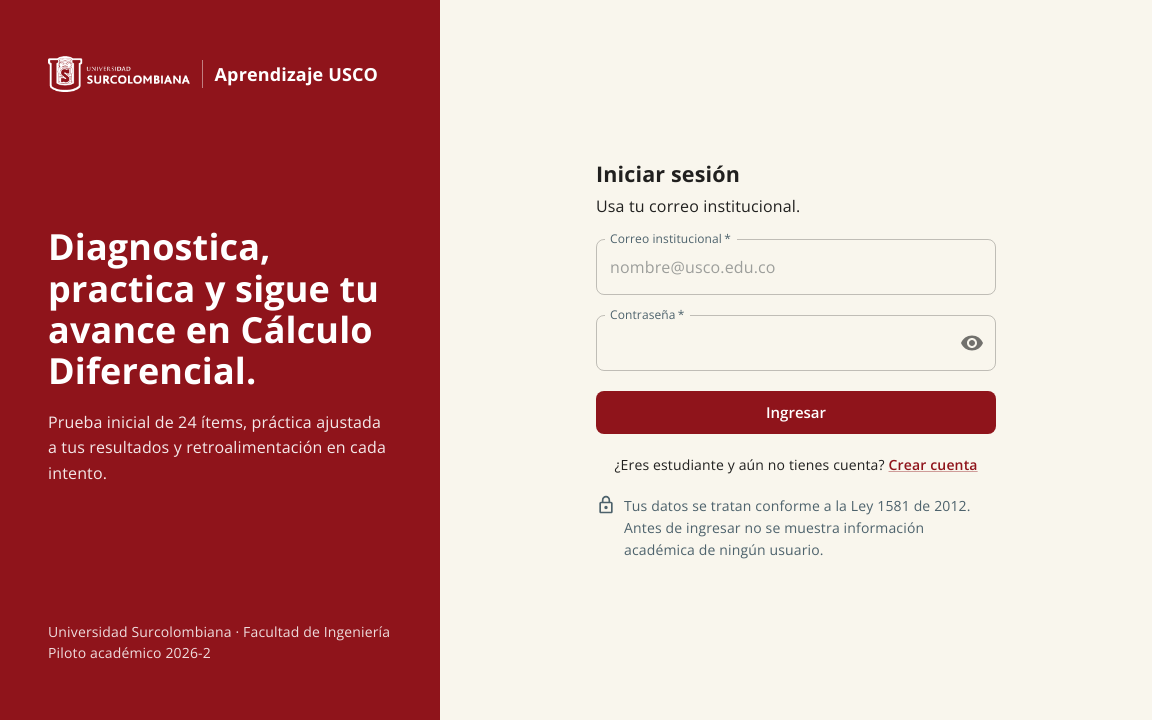
RegistroPage › el login enlaza a la pantalla de registro (hallazgo 1)
Step 1. Click the link "Crear cuenta" → (933, 464), box [888,454,978,474]
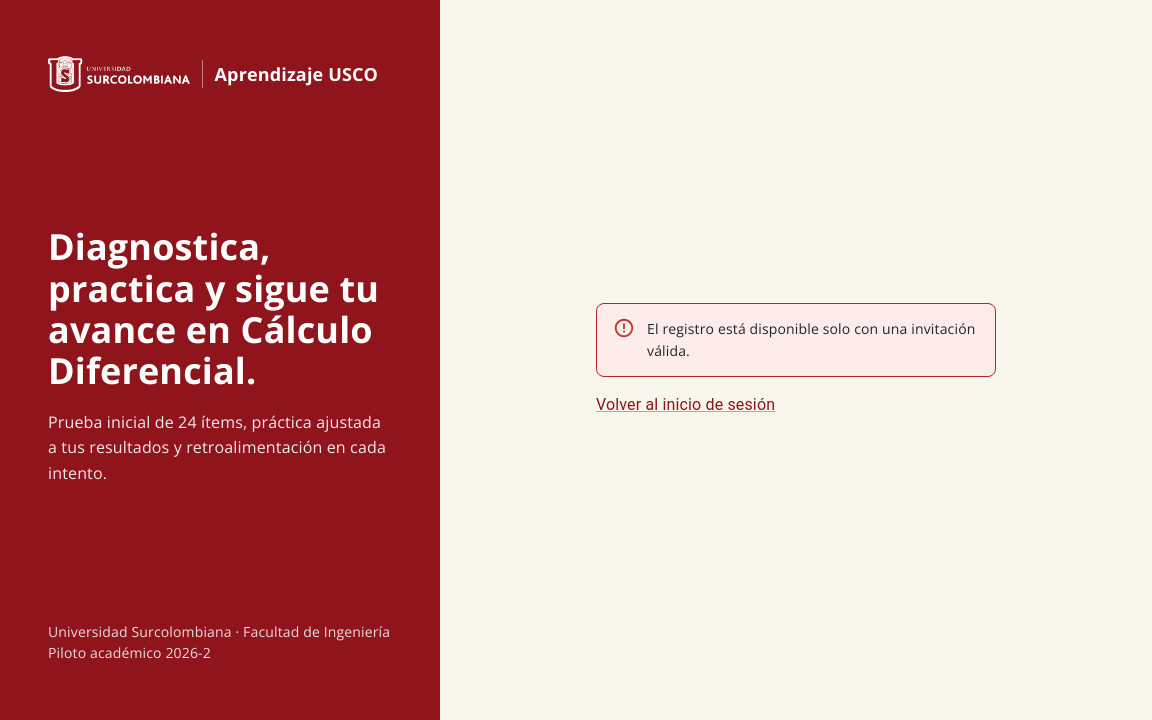
Expected: the message reads "El registro está disponible solo con una invitación válida.", [647,319,976,360]
